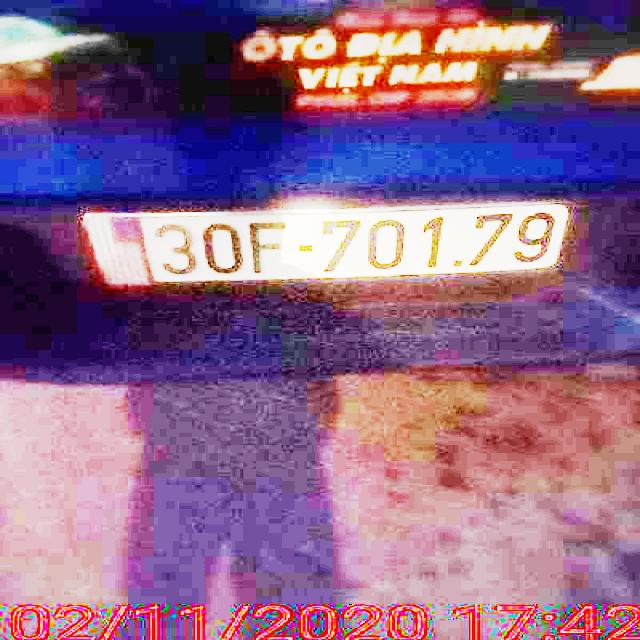license_plate: (81, 205, 565, 287)
